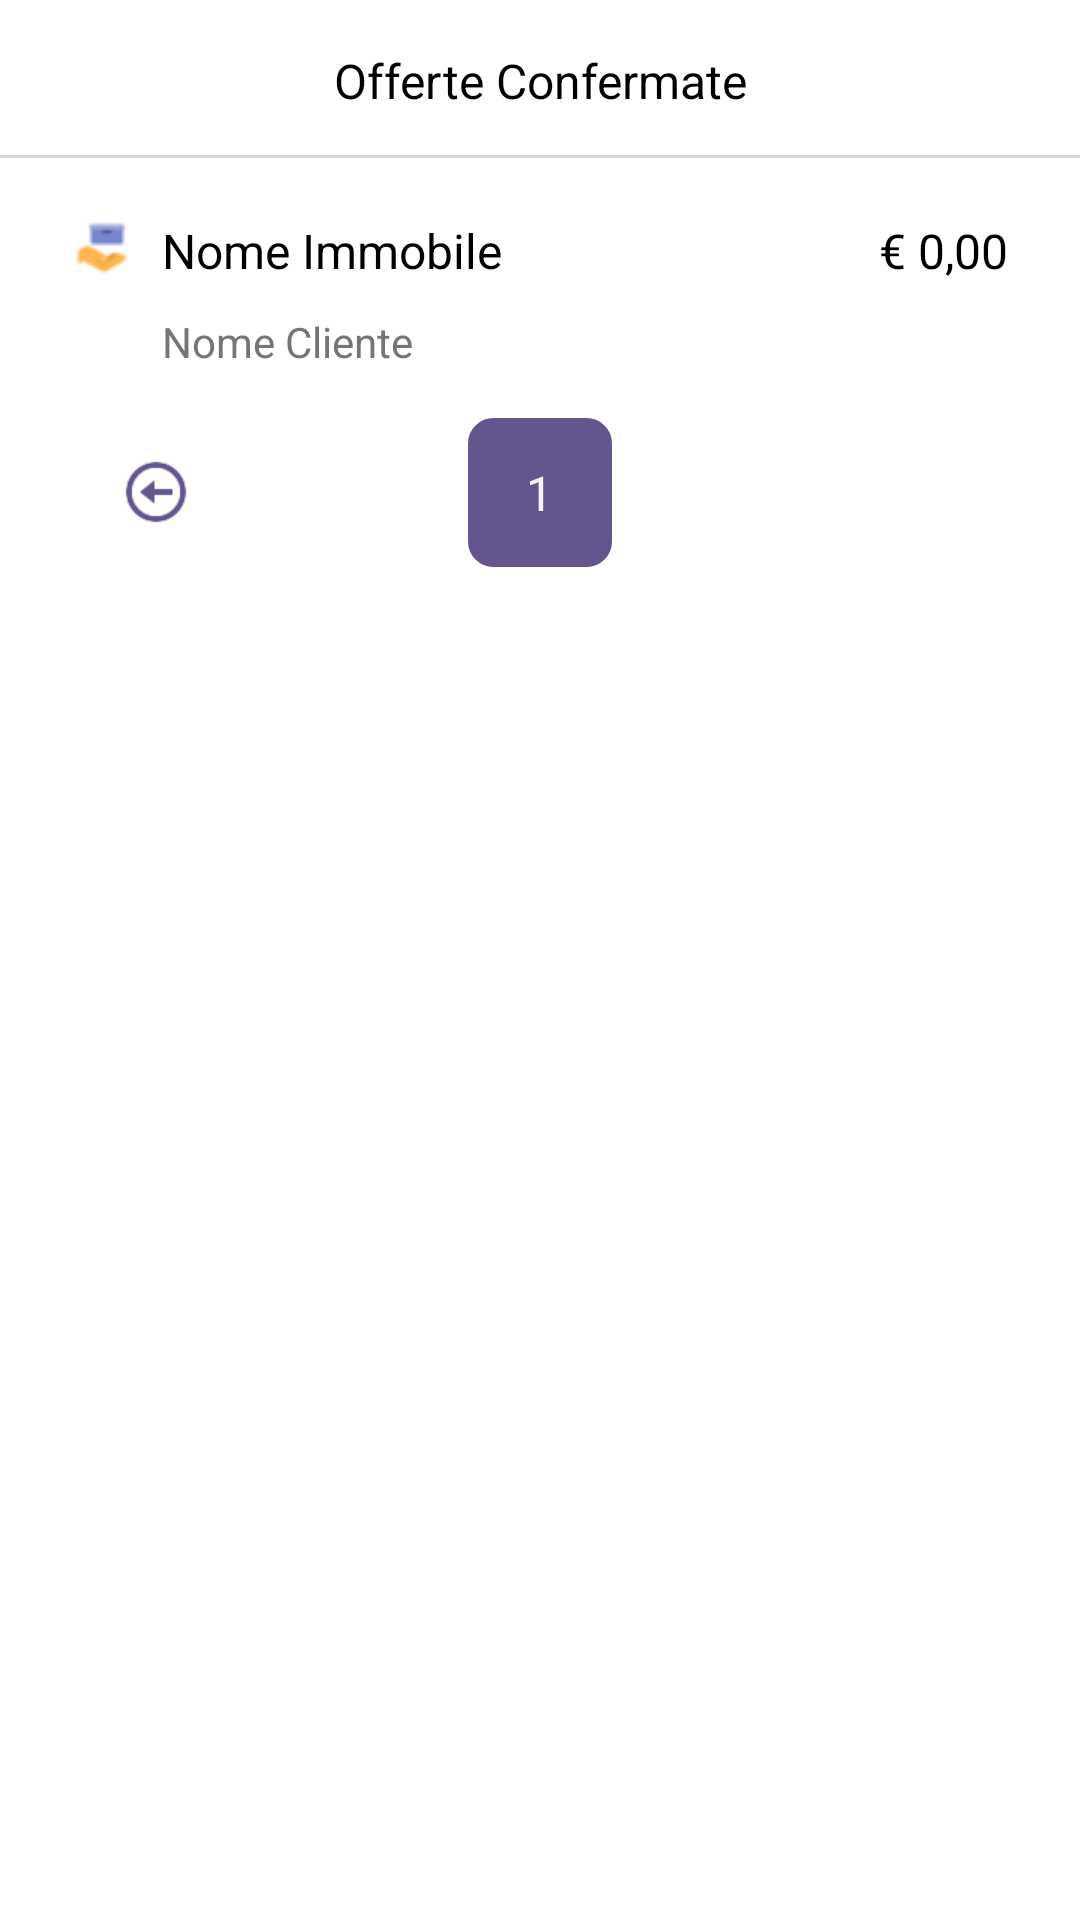

Where to tap for icons on this 1080px×1920px app screen, as [x,y]:
left arrow: [156,492]
